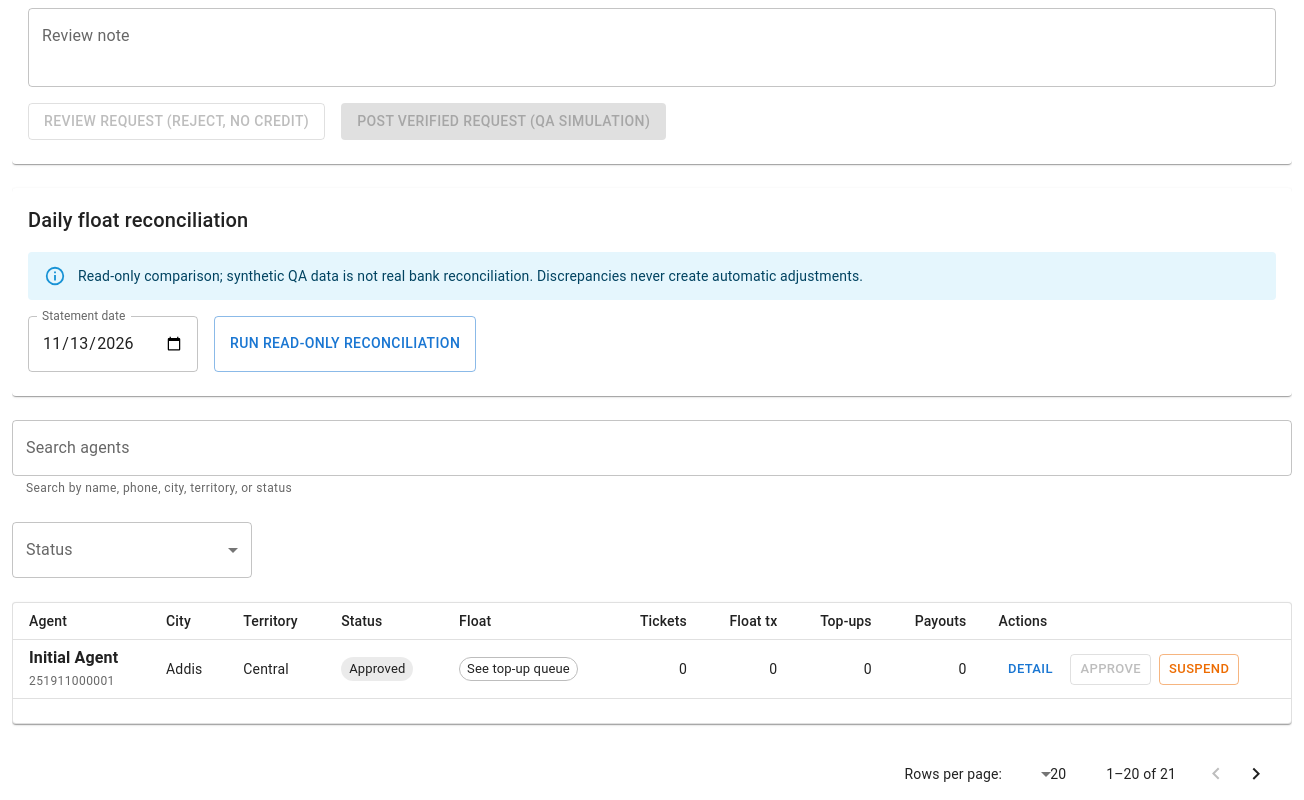
AgentsPage float top-up review › does not show a late response from an older query after search changes
The width and height of the screenshot is (1304, 800).
(page scrolled)
Click the button named "Go to next page" at (1256, 774), box [1236, 754, 1276, 794]
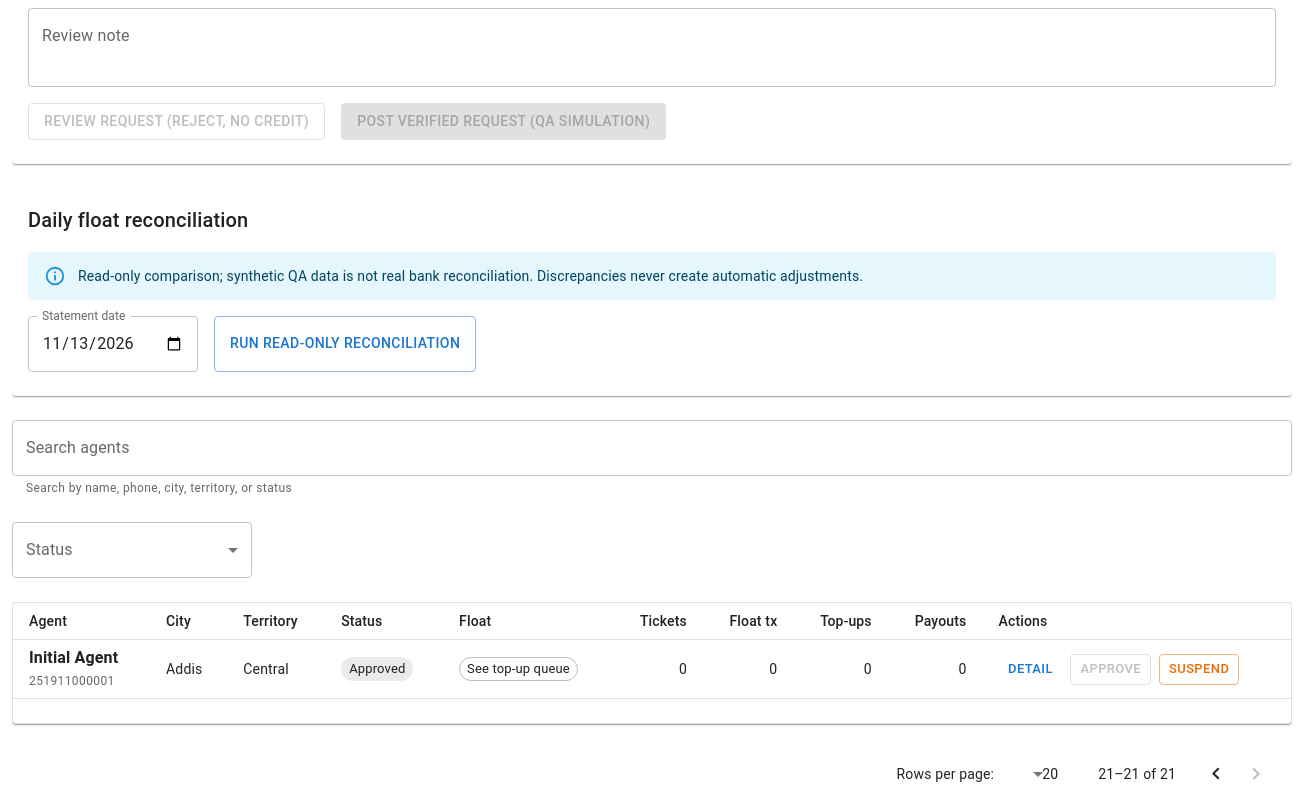
Type "Rob" into the field labelled "Search agents" at (652, 448), box [12, 420, 1292, 476]
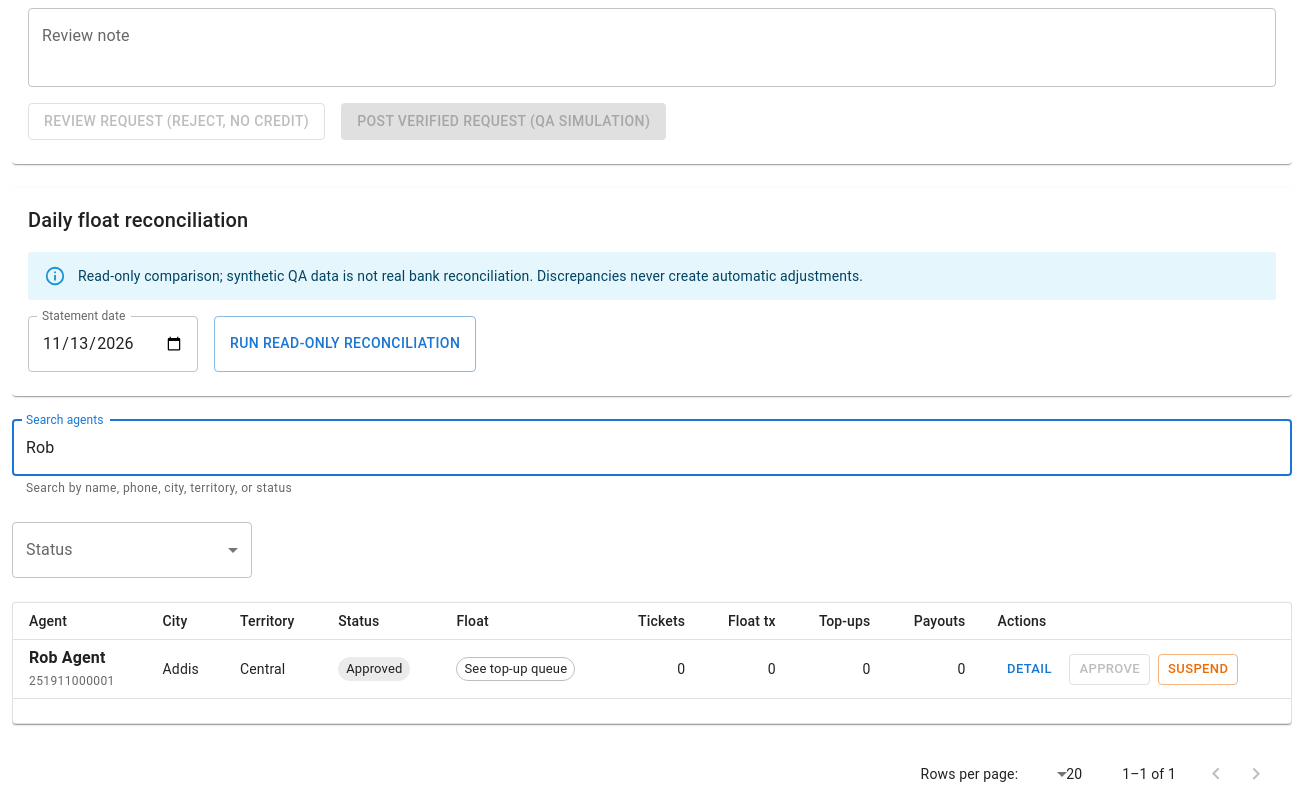
Result: the text "Rob Agent" is shown at [29, 648, 106, 668]
